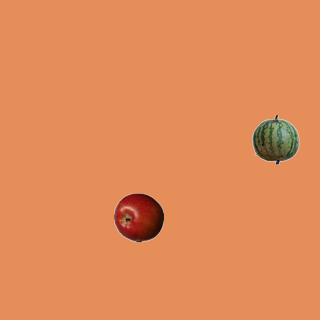Apple Braeburn: (113, 192, 163, 242)
Watermelon: (250, 114, 300, 164)
